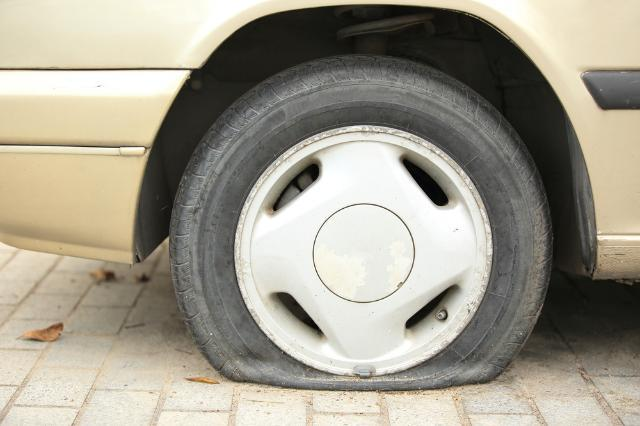tire flat: (167, 54, 554, 392)
